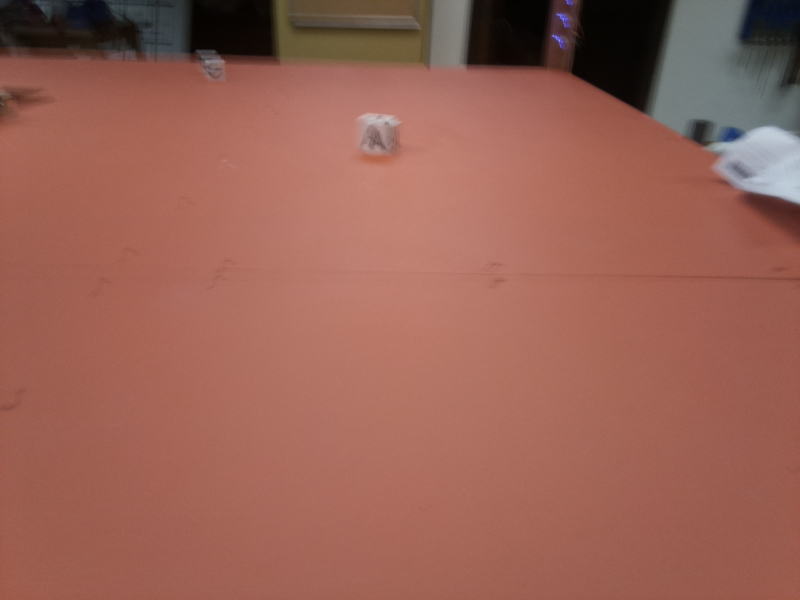blockA: (357, 114, 404, 155)
blockD: (196, 50, 226, 78)
corner: (543, 1, 581, 70)
side: (1, 92, 25, 124)
slope: (8, 80, 53, 105)
